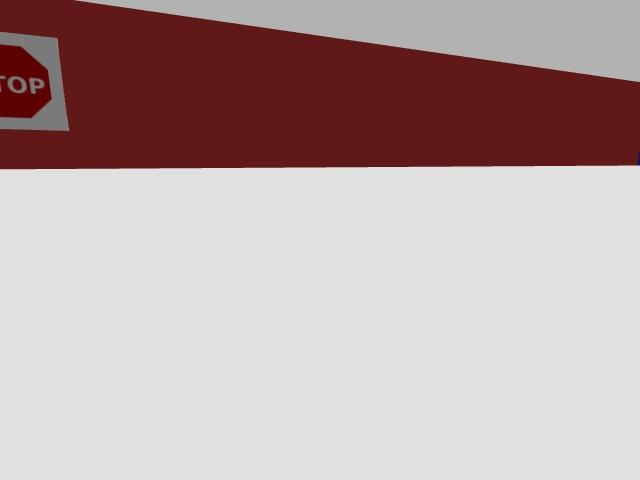stop: (0, 32, 68, 130)
